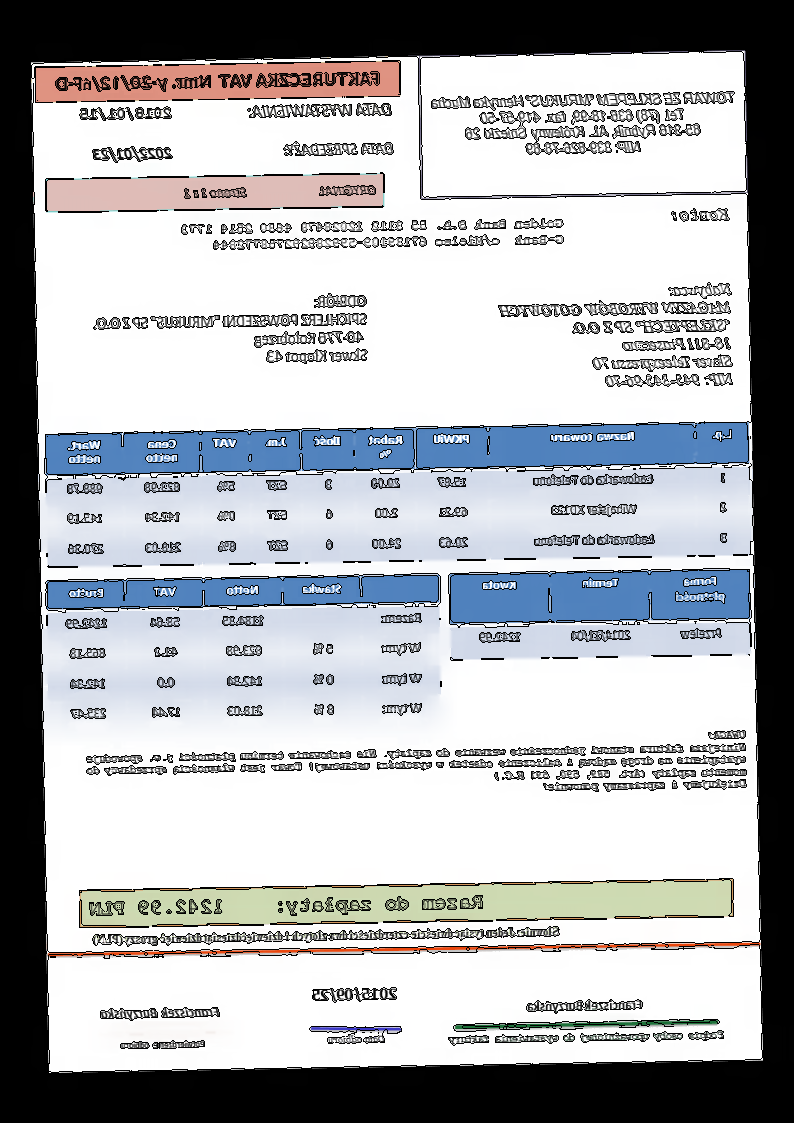Table: (45, 421, 752, 569), (44, 573, 443, 733), (449, 567, 752, 662)
TextBox: (84, 728, 749, 801), (497, 282, 735, 391), (428, 87, 738, 159), (93, 291, 369, 368), (179, 215, 564, 254), (89, 891, 486, 921), (92, 924, 560, 947), (55, 67, 383, 94), (448, 1028, 726, 1047), (182, 182, 379, 202), (246, 99, 394, 120), (100, 1005, 222, 1023), (282, 139, 396, 158), (526, 997, 645, 1014), (79, 105, 173, 124), (311, 985, 399, 1003), (89, 145, 175, 162), (119, 1038, 207, 1051), (671, 205, 731, 224), (326, 1032, 387, 1047)
